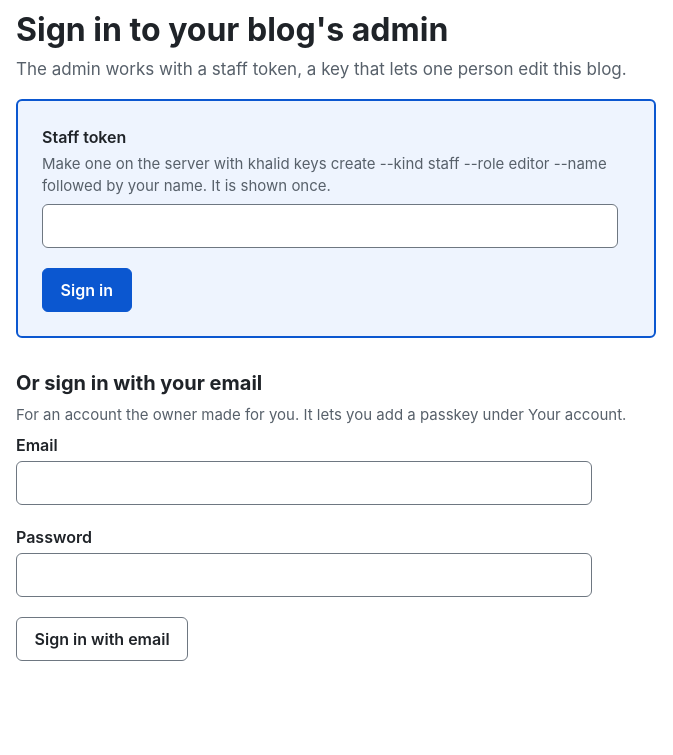
Test case: signing in › explains a refused token and keeps nothing
Type "wrong" into the password field labelled "Staff token" at (330, 226), box [42, 204, 618, 248]
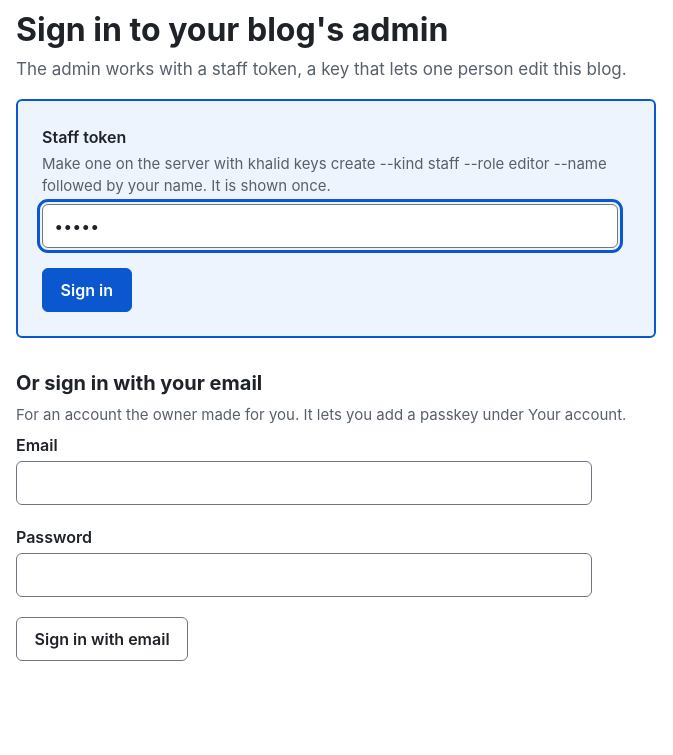
Click the button "Sign in" at (87, 290), box [42, 268, 132, 312]
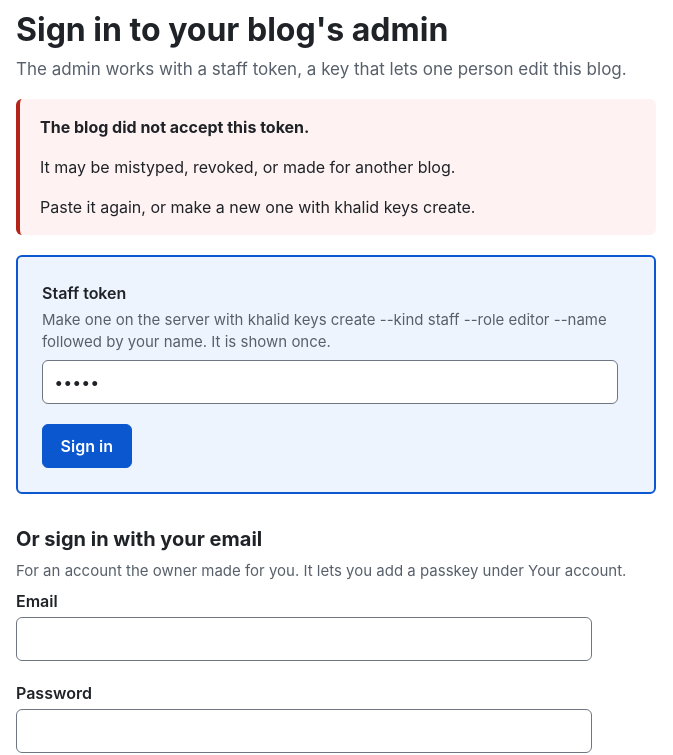
Expected: the message shows "The blog did not accept this token.", [40, 117, 309, 137]
